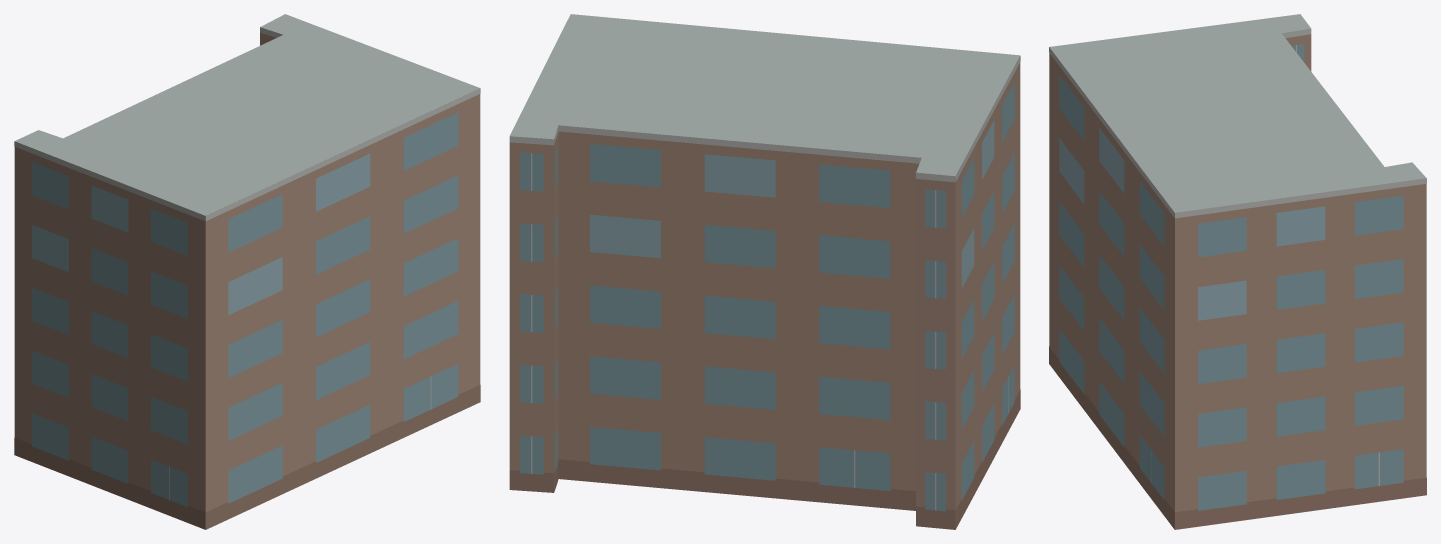
The model's file is survey-upis-32751880.glb.
3 views of the same model, side by side, from view 1: azimuth 30°, elevation 25°; view 2: azimuth 150°, elevation 25°; view 3: azimuth 270°, elevation 25° (orthographic). The views are drawn at different scales.
Visible parts, largest first — view 1: survey-upis-32751880.tmp; view 2: survey-upis-32751880.tmp; view 3: survey-upis-32751880.tmp.
Part boxes in pixels (box(x1,y1,x2,y2)): survey-upis-32751880.tmp: box(14, 14, 480, 529); survey-upis-32751880.tmp: box(509, 14, 1020, 529); survey-upis-32751880.tmp: box(1049, 14, 1426, 529).
Bounding box in the file's own units: 18.92 × 14.05 × 15.18.
